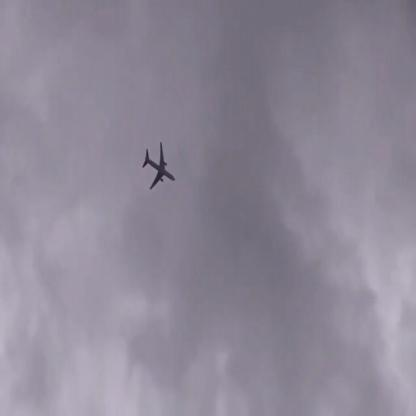CIV_Plane: (141, 144, 176, 190)
